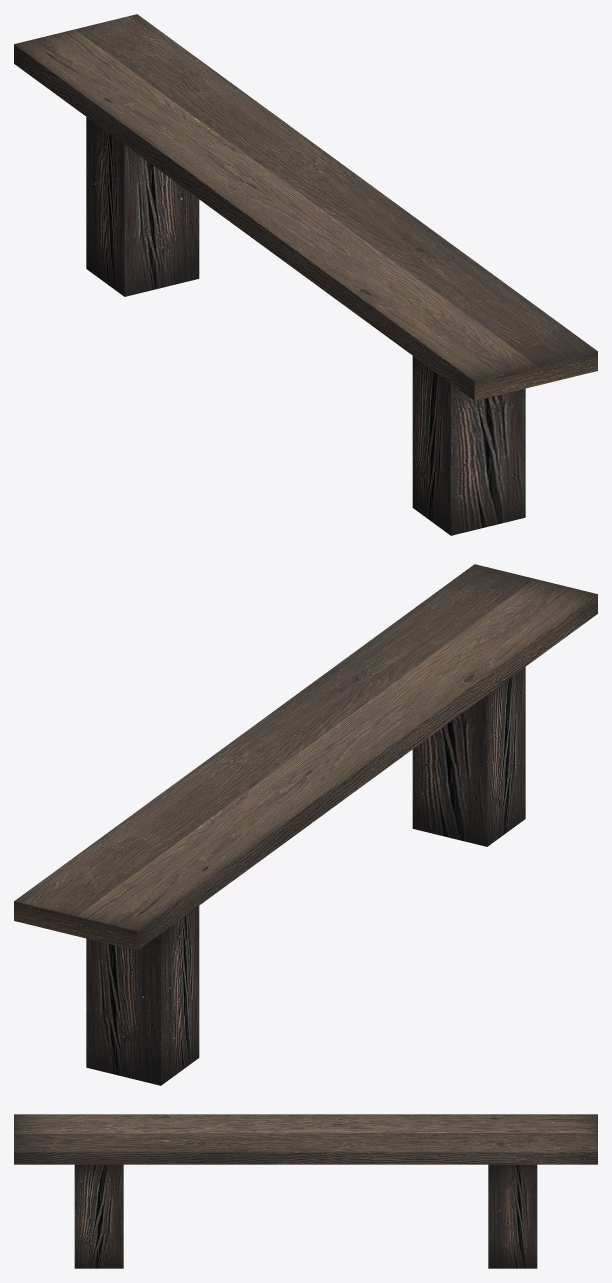
Rendered from Лавка.fbx.
3 renders of one model, top to bottom at view 1: azimuth 30°, elevation 25°; view 2: azimuth 150°, elevation 25°; view 3: azimuth 270°, elevation 25°, orthographic. The views are drawn at different scales.
Parts seen in each view (by area): view 1: Box003; view 2: Box003; view 3: Box003.
Part boxes in pixels (box(x1,y1,x2,y2)): Box003: box(14, 14, 597, 535); Box003: box(14, 564, 597, 1085); Box003: box(14, 1114, 597, 1268).
Size of the model in its own units: 0.33 by 0.5 by 2.14.
Materials: 1 (1 with a texture image).
